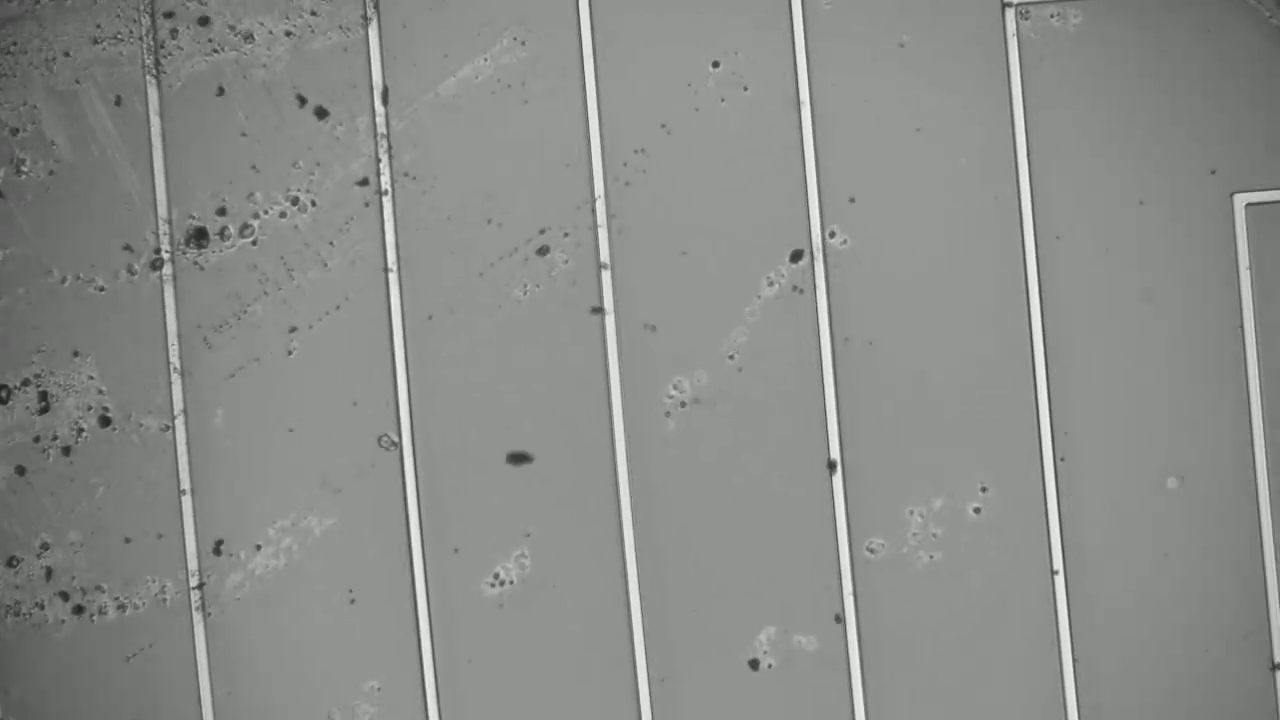stains_enbedded: (820, 449, 850, 480), (364, 84, 399, 110), (145, 252, 177, 272)
